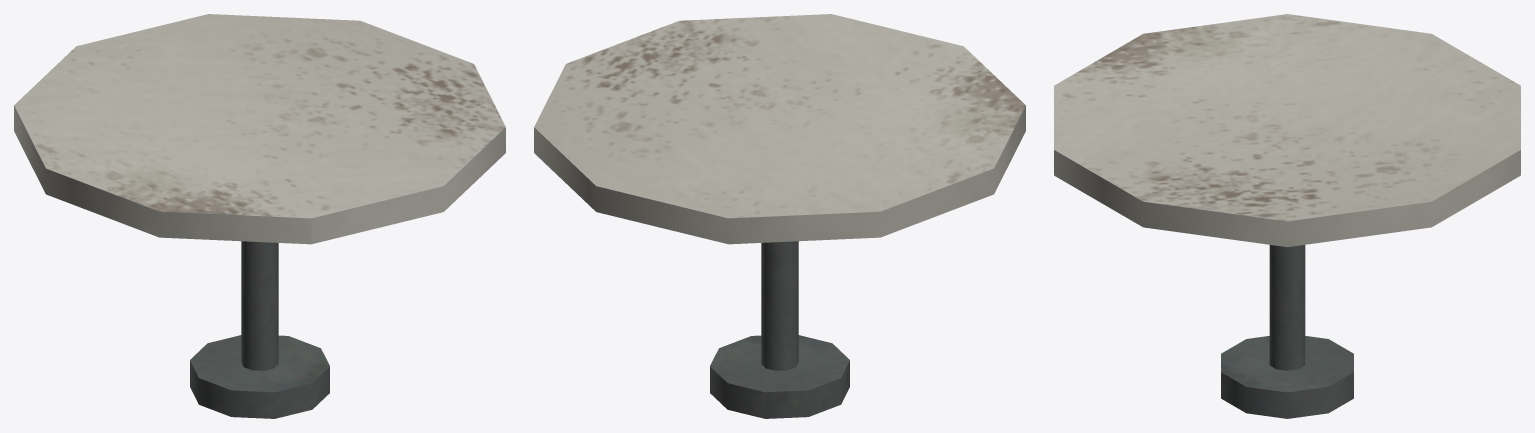
The model's file is Table.fbx.
3 views of the same model, side by side, from view 1: azimuth 30°, elevation 25°; view 2: azimuth 150°, elevation 25°; view 3: azimuth 270°, elevation 25° (orthographic).
Visible parts, largest first — view 1: Table; view 2: Table; view 3: Table.
Boxes of the visible parts, x1,y1,x2,y2 form: Table: (14,14,505,418); Table: (534,14,1025,418); Table: (1054,14,1520,418).
Bounding box in the file's own units: 129 × 78.56 × 122.
